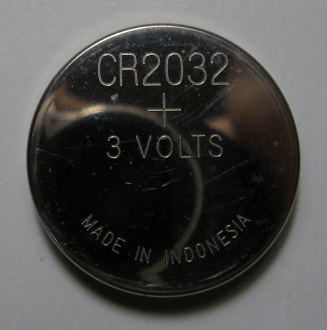Battery: (24, 18, 310, 319)
